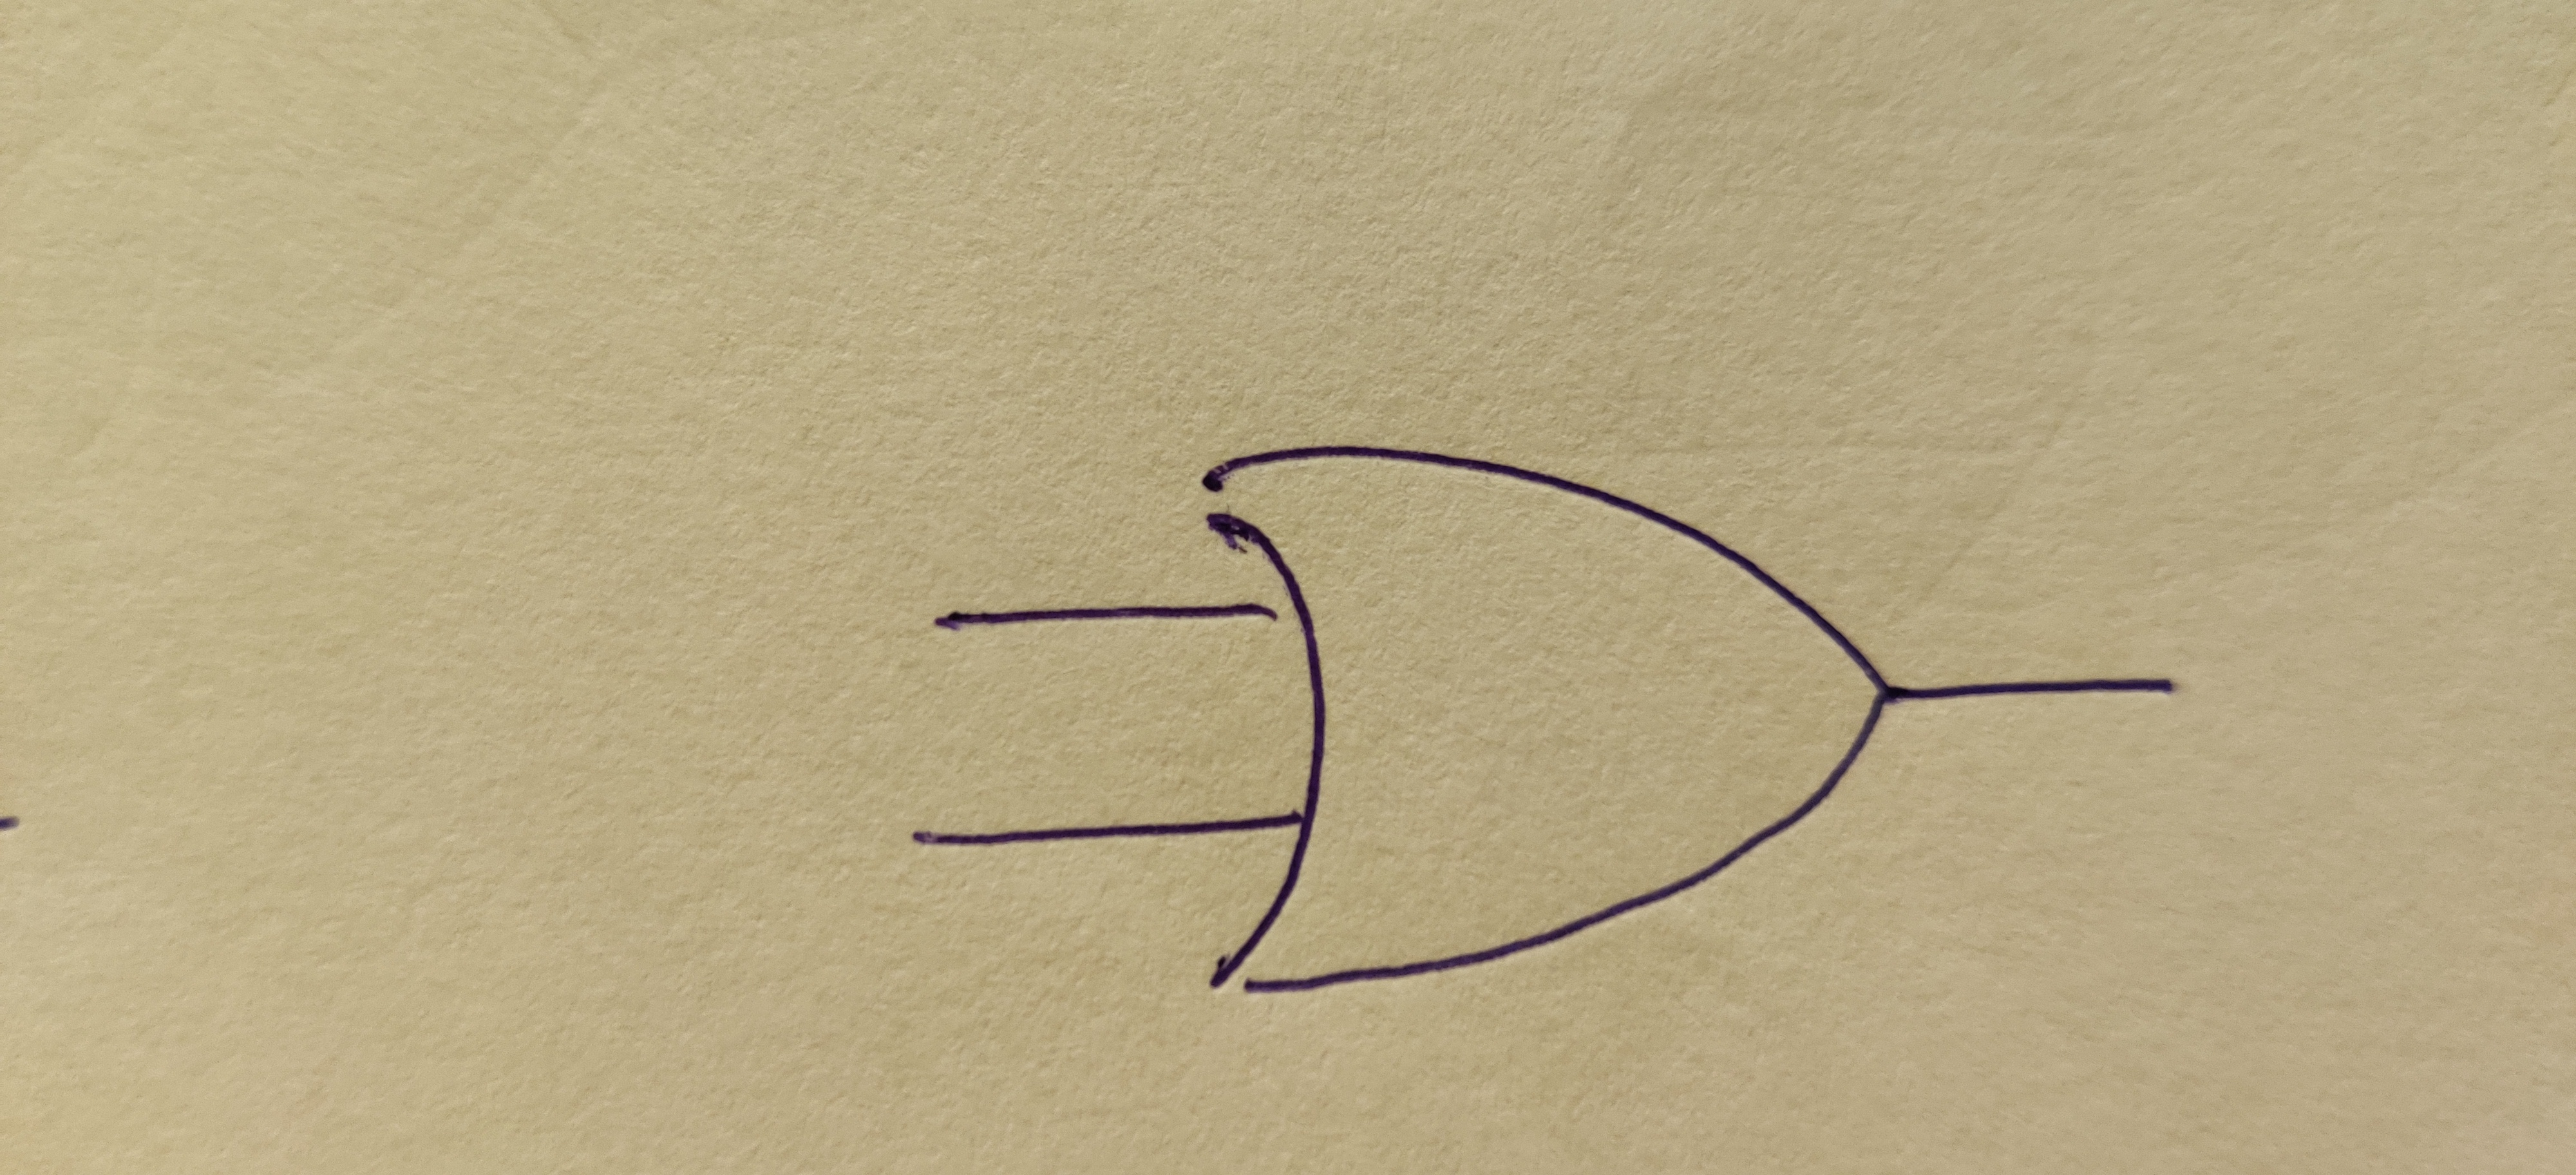or: (1209, 447, 1881, 994)
